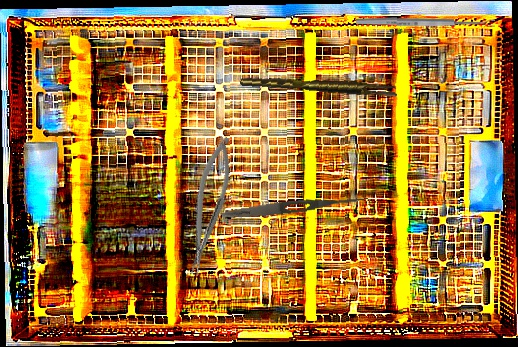Dressing Forceps: (220, 191, 369, 222)
Needle Holder: (176, 133, 241, 278)
Surgical Spoon: (355, 16, 496, 29)
Tissue Forceps: (240, 69, 398, 102)
